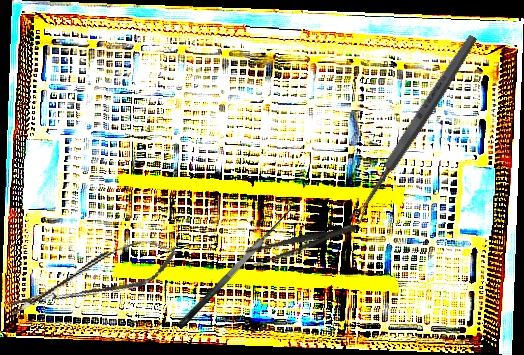Dressing Forceps: (233, 216, 361, 273)
Micro Scissor: (0, 231, 184, 326)
Spatula Surgical: (166, 196, 301, 331)
Surgical Spoon: (347, 32, 480, 226)
